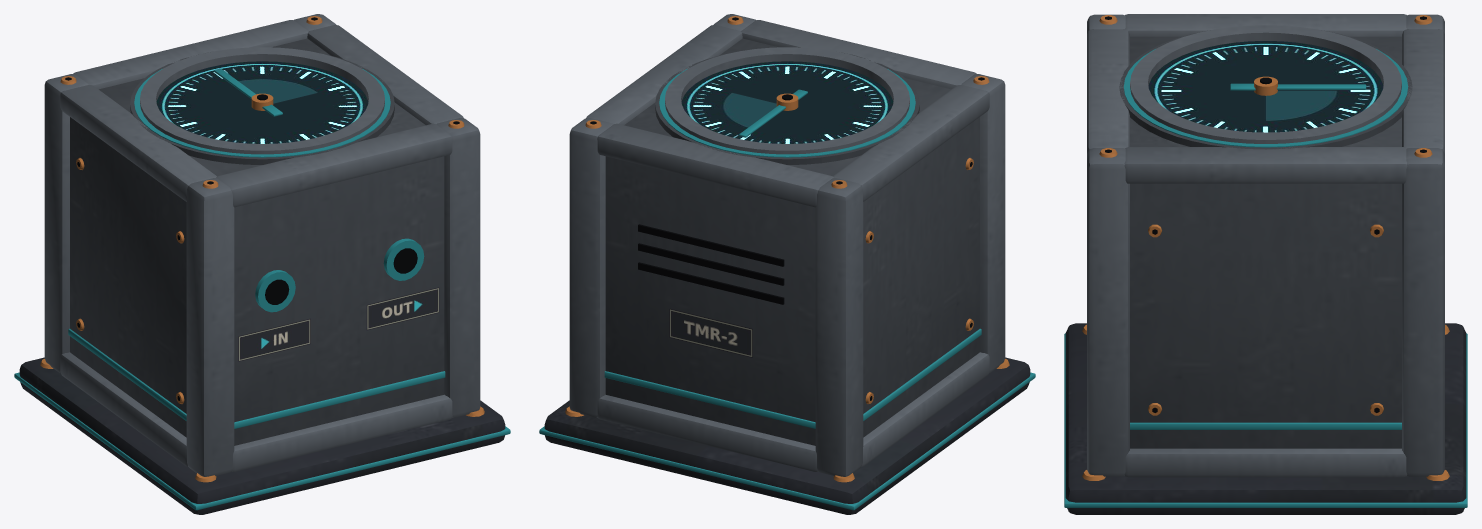
Rendered from timer.glb.
3 views of the same model, side by side, from view 1: azimuth 30°, elevation 25°; view 2: azimuth 150°, elevation 25°; view 3: azimuth 270°, elevation 25° (orthographic). The views are drawn at different scales.
Visible parts, largest first — view 1: Body, HandBody; view 2: Body, HandBody; view 3: Body, HandBody.
Boxes of the visible parts, x1,y1,x2,y2 form: Body: (14,14,510,514); HandBody: (214,68,282,116); Body: (539,14,1035,514); HandBody: (739,89,807,137); Body: (1064,14,1467,514); HandBody: (1230,76,1366,95).
Bounding box in the file's own units: 0.2256 × 0.2186 × 0.2256.
Materials: 11 (8 with a texture image).
